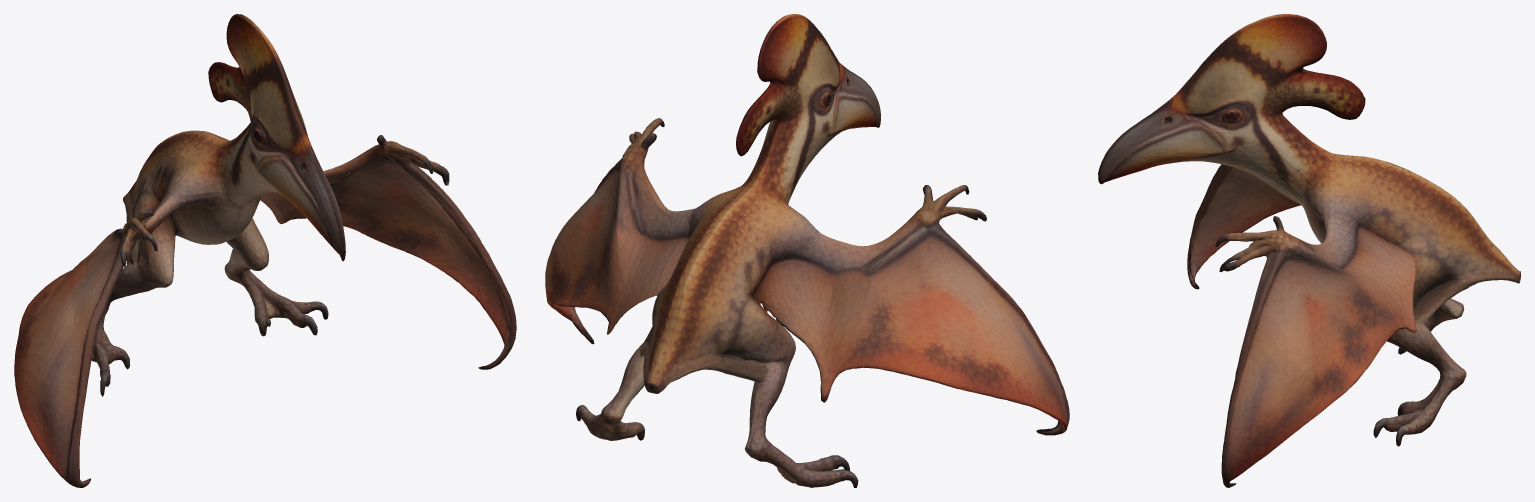
3 renders of one model, left to right at view 1: azimuth 30°, elevation 25°; view 2: azimuth 150°, elevation 25°; view 3: azimuth 270°, elevation 25°, orthographic. The views are drawn at different scales.
Parts seen in each view (by area): view 1: world; view 2: world; view 3: world.
Part boxes in pixels (x1=…): world: x1=14, y1=14, x2=516, y2=487; world: x1=545, y1=14, x2=1069, y2=487; world: x1=1098, y1=14, x2=1520, y2=487.
Size of the model in its own units: 1.5 by 1.15 by 1.18.
Materials: 1 (1 with a texture image).
